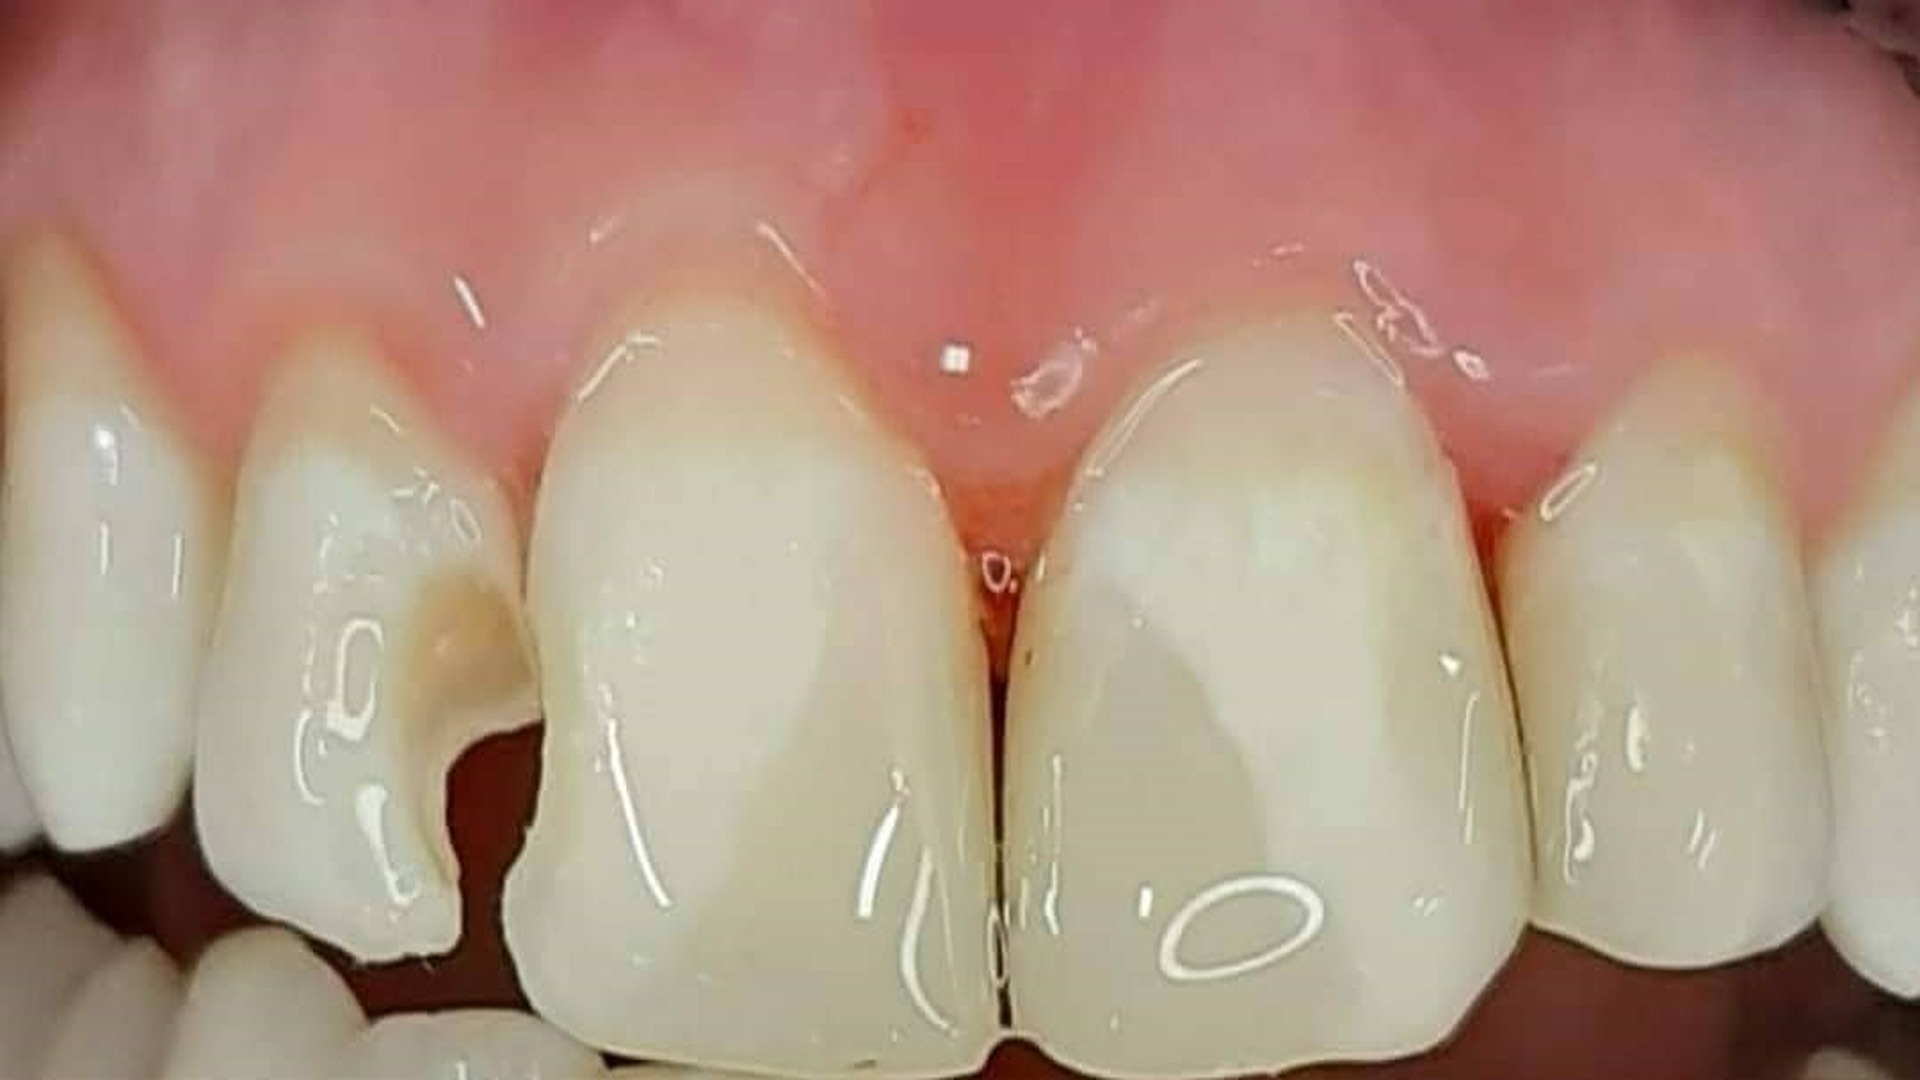tooth: (1000, 307, 1533, 1078), (501, 289, 999, 1078), (193, 326, 544, 963), (1495, 351, 1830, 969), (1, 228, 220, 854), (1808, 372, 1918, 1000), (1, 873, 194, 1078), (167, 927, 370, 1078), (357, 1008, 609, 1078)
